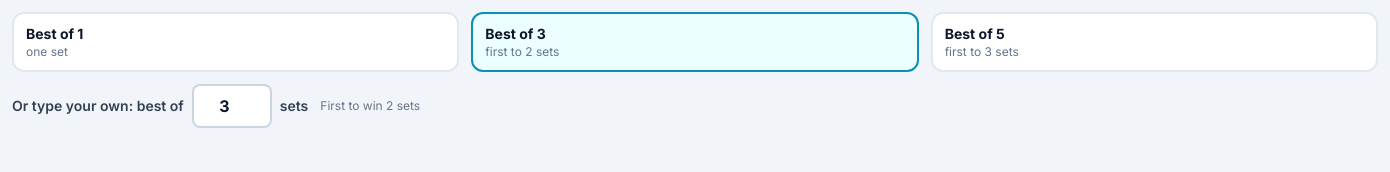
Scenario: SetsPicker (admin types the number of sets) › rejects invalid input: never sends it, shows an error, restores the last good value on blur
Clear the number field named "custom number of sets" at [232, 106], box [192,84,272,128]
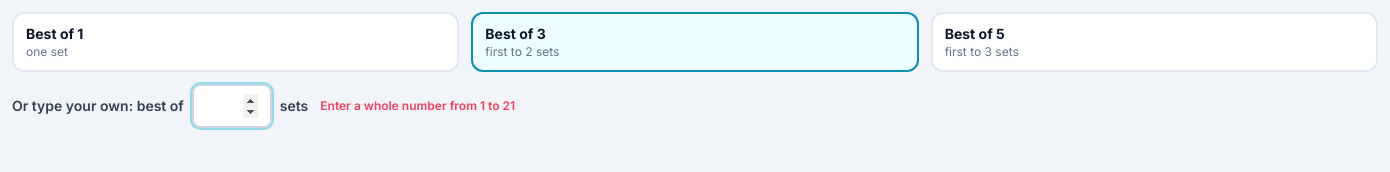
Expected: the text "Enter a whole number from 1 to 21" is shown, [320,98,515,114]
Type "0" into the number field named "custom number of sets" at [232, 106], box [192,84,272,128]
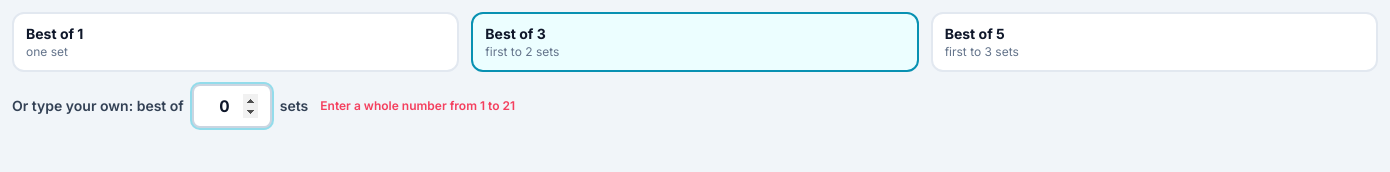
Expected: the text "Enter a whole number from 1 to 21" is shown, [320,98,515,114]
Replace the text in the number field named "custom number of sets" with "-4" at [232, 106], box [192,84,272,128]
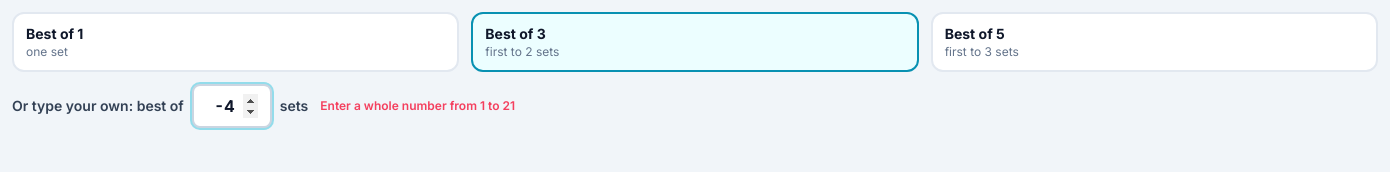
Press Tab
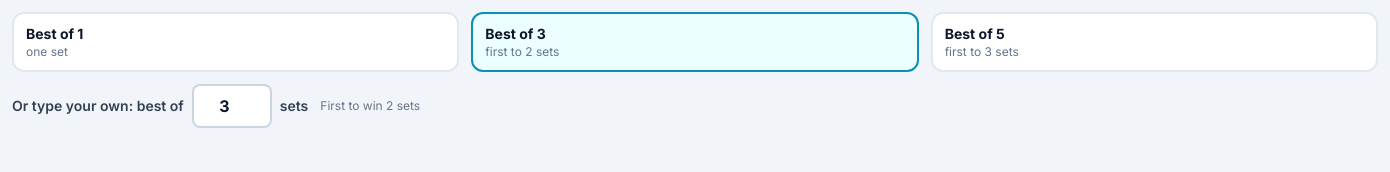
Expected: the number field named "custom number of sets" holds "3", [192,84,272,128]
Expected: the text "whole number from 1 to 21" is gone
